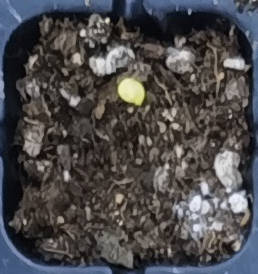pepper seed: (43, 23, 190, 130)
